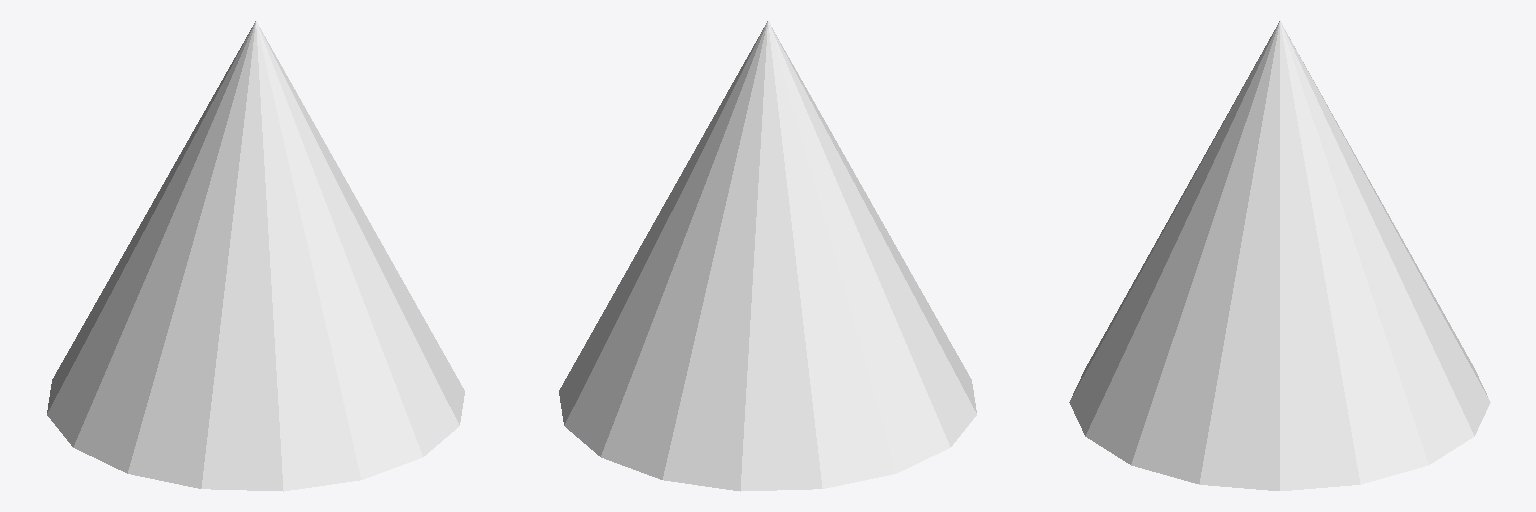
robot.urdf — cone.urdf:
<?xml version="1.0" ?>
<robot name="cone.urdf">
  <link name="baseLink">

    <inertial>
      <origin rpy="0 0 0" xyz="0 0 0"/>
       <mass value="0.0"/>
       <inertia ixx="0" ixy="0" ixz="0" iyy="0" iyz="0" izz="0"/>
    </inertial>
    <visual>
      <origin rpy="0 0 0" xyz="0 0 0"/>
      <geometry>
        <mesh filename="cone.obj" scale="1.0 1.0 1.0"/>
      </geometry>
      <material name="white">
       <color rgba="1 1 1 1"/>
     </material>
    </visual>
    <collision>
      <origin rpy="0 0 0" xyz="0 0 0"/>
      <geometry>
        <mesh filename="cone.obj" scale="1.0 1.0 1.0"/>
        <!-- You could also specify the collision (for the cone) with a "box" tag: -->
        <!-- <box size=".06 .06 .06"/> -->
      </geometry>
    </collision>
  </link>
</robot>
        

--- What the picture shows (computed from the rendered views, not written in the file) ---
The picture shows the robot from 3 angles, left to right: view 1: azimuth 30°, elevation 25°; view 2: azimuth 150°, elevation 25°; view 3: azimuth 270°, elevation 25°; orthographic projection.
Model cone.urdf with 1 links and 0 joints (none), rooted at baseLink, posed every joint at zero.
Links seen in each view (by area): view 1: baseLink; view 2: baseLink; view 3: baseLink.
Link boxes in pixels (left/top/right/bottom): baseLink: left=47, top=21, right=464, bottom=491; baseLink: left=559, top=21, right=976, bottom=491; baseLink: left=1069, top=21, right=1490, bottom=490.
Bounding box of the posed robot: 1 × 1 × 1 m (x, y, z).
Meshes: 1 distinct files referenced, 1 mesh visuals loaded (1 OBJ).